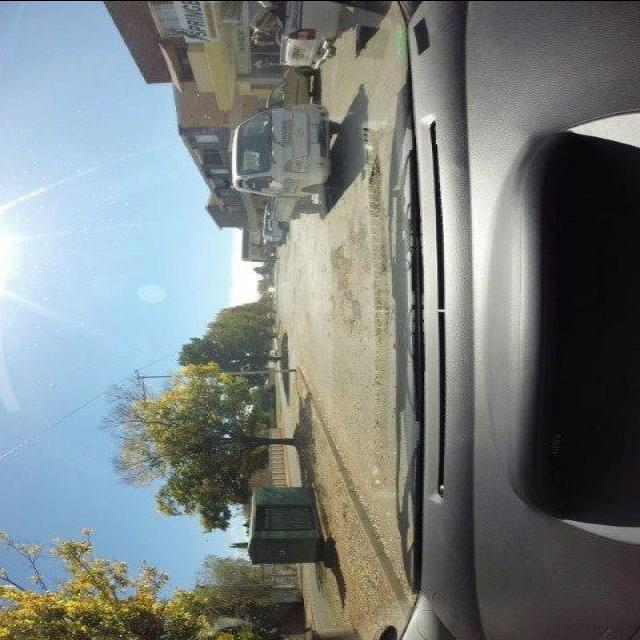lubang: (328, 242, 364, 330), (362, 155, 388, 229)
